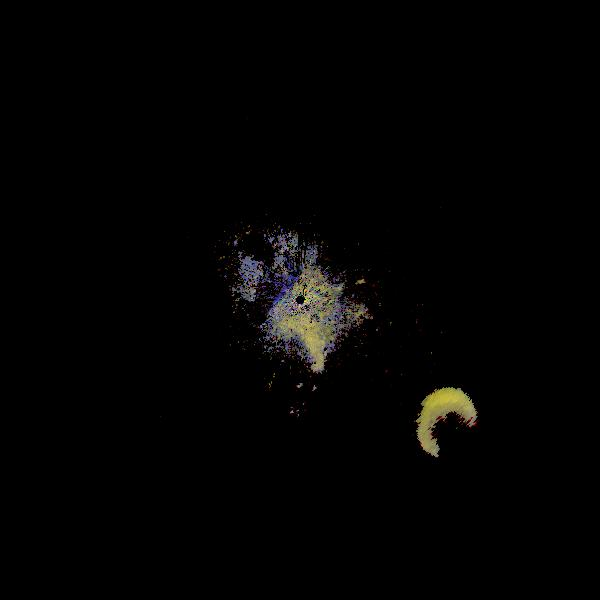roost: (405, 375, 519, 489), (246, 309, 336, 399)
